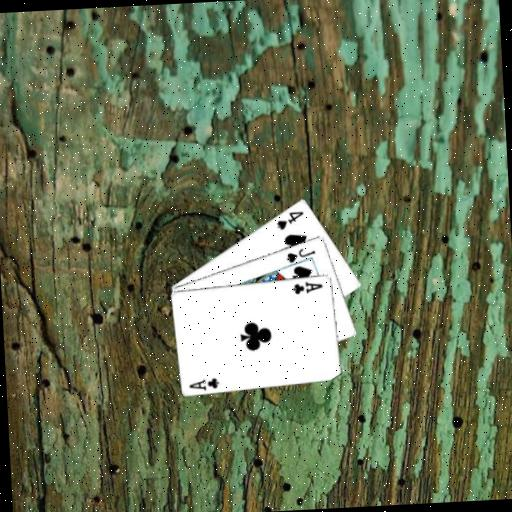4S: (273, 208, 306, 232)
AC: (186, 374, 221, 393), (290, 278, 324, 296)
JS: (283, 244, 318, 264)
